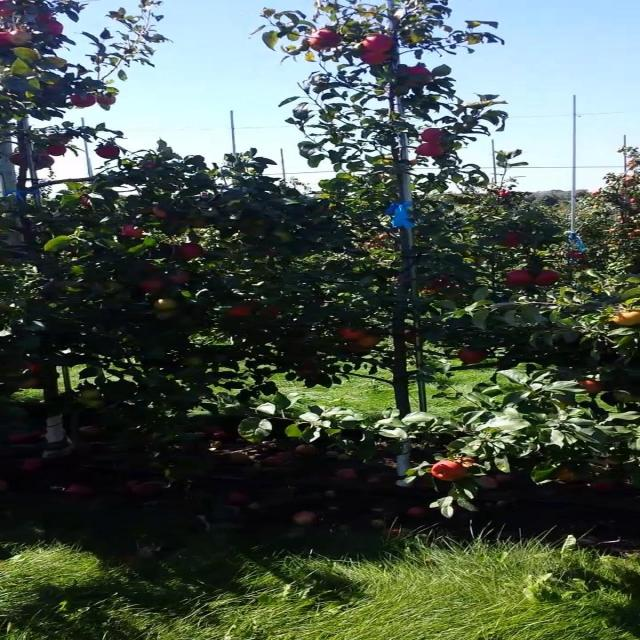apple: (433, 464, 469, 483), (404, 68, 434, 88), (440, 460, 476, 476), (362, 36, 396, 52), (461, 348, 491, 364), (504, 272, 533, 287), (611, 312, 638, 328), (362, 52, 391, 66), (419, 144, 446, 159), (120, 224, 146, 239), (13, 28, 34, 46), (184, 244, 206, 260), (540, 272, 562, 288), (355, 336, 384, 348), (618, 388, 639, 404), (618, 312, 639, 327), (70, 96, 96, 108), (340, 328, 366, 340), (554, 468, 578, 481), (319, 32, 341, 46), (582, 380, 604, 394), (35, 156, 57, 170), (312, 36, 331, 52), (141, 280, 164, 293), (227, 308, 254, 319), (426, 128, 444, 144), (454, 456, 478, 468), (504, 232, 521, 248), (99, 148, 121, 160), (170, 272, 192, 284), (49, 144, 71, 156), (49, 140, 71, 152), (404, 68, 432, 77), (433, 276, 452, 289), (156, 300, 178, 311), (35, 12, 57, 23), (49, 20, 64, 36), (298, 364, 318, 376), (348, 344, 373, 353), (49, 56, 69, 67), (20, 380, 41, 390), (596, 480, 615, 491), (99, 96, 119, 106), (77, 392, 101, 400), (404, 332, 420, 344), (276, 232, 293, 243), (84, 400, 107, 408), (483, 476, 498, 488), (184, 360, 206, 368), (156, 312, 178, 320), (191, 220, 212, 228), (156, 208, 171, 219), (106, 284, 123, 293), (141, 264, 158, 272), (56, 136, 71, 144), (28, 364, 43, 372), (447, 292, 462, 300), (13, 156, 25, 165), (433, 284, 448, 291), (269, 308, 283, 315), (141, 164, 156, 170), (6, 8, 14, 16), (84, 200, 92, 207)
